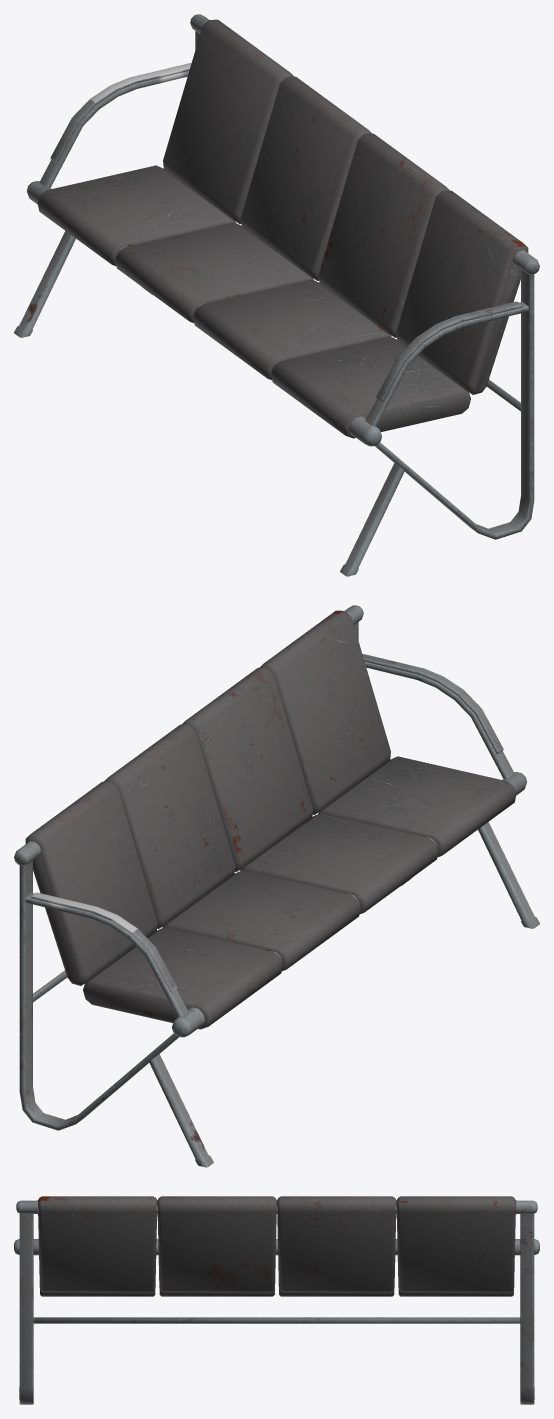
Rendered from Kursi Pengunjung Revisi.fbx.
The picture shows the model from 3 angles, top to bottom: view 1: azimuth 30°, elevation 25°; view 2: azimuth 150°, elevation 25°; view 3: azimuth 270°, elevation 25°; orthographic projection. The views are drawn at different scales.
Parts seen in each view (by area): view 1: Kursi pengunjung; view 2: Kursi pengunjung; view 3: Kursi pengunjung.
Part boxes in pixels (left/top/right/bottom): Kursi pengunjung: left=14, top=14, right=539, bottom=576; Kursi pengunjung: left=14, top=605, right=539, bottom=1167; Kursi pengunjung: left=14, top=1196, right=539, bottom=1404.
Bounding box in the file's own units: 78.76 × 239 × 107.
Materials: 1 (1 with a texture image).
